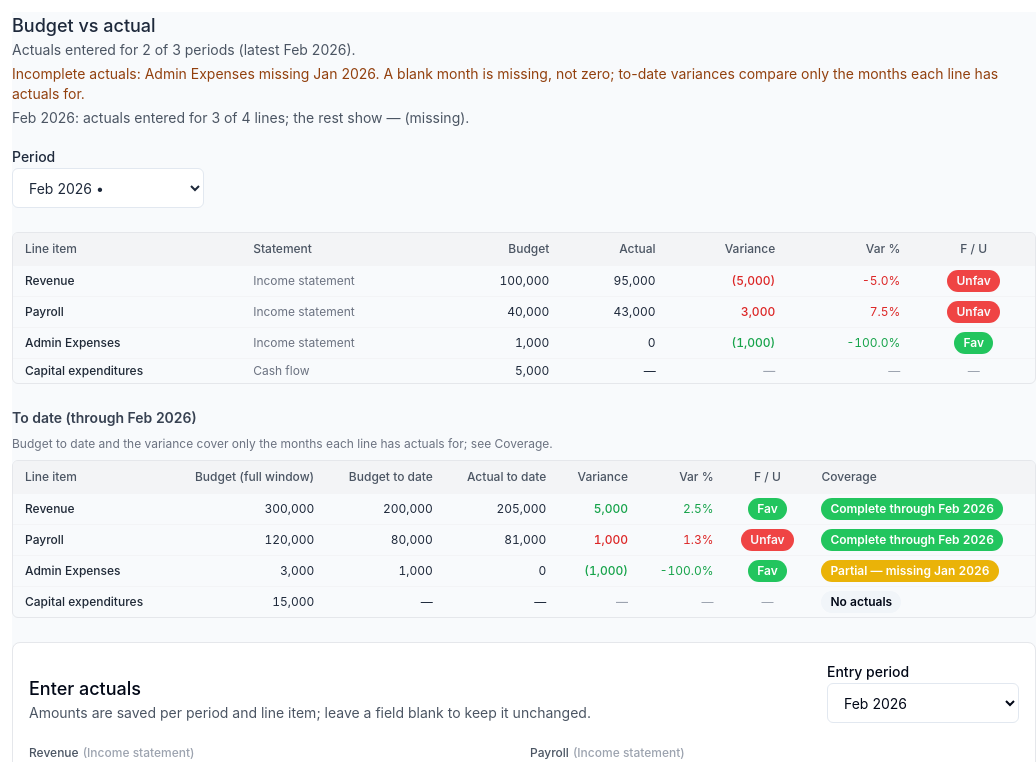
Test case: VarianceReport › distinguishes a missing month from a confirmed zero and shows coverage
This screenshot has width=1036, height=762.
Note: January: never entered, so no actual, no variance, no verdict.
Step 1. Select "Jan 2026 •" in the dropdown labelled "Period" → [108, 188], box [12,168,204,208]
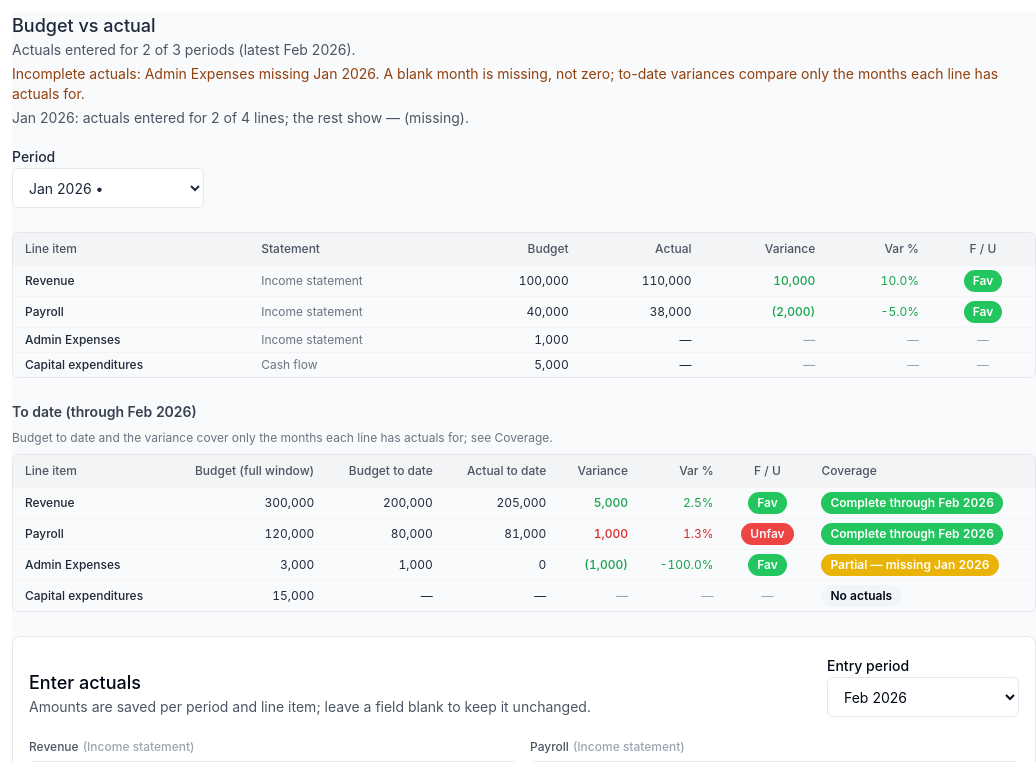
expect the text "Partial — missing Jan 2026" is shown: met, box [821,554,999,576]
expect the text with test id "period-coverage-note" shows "Jan 2026: actuals entered for 2 of 4 lines": met, box [12,109,469,126]
